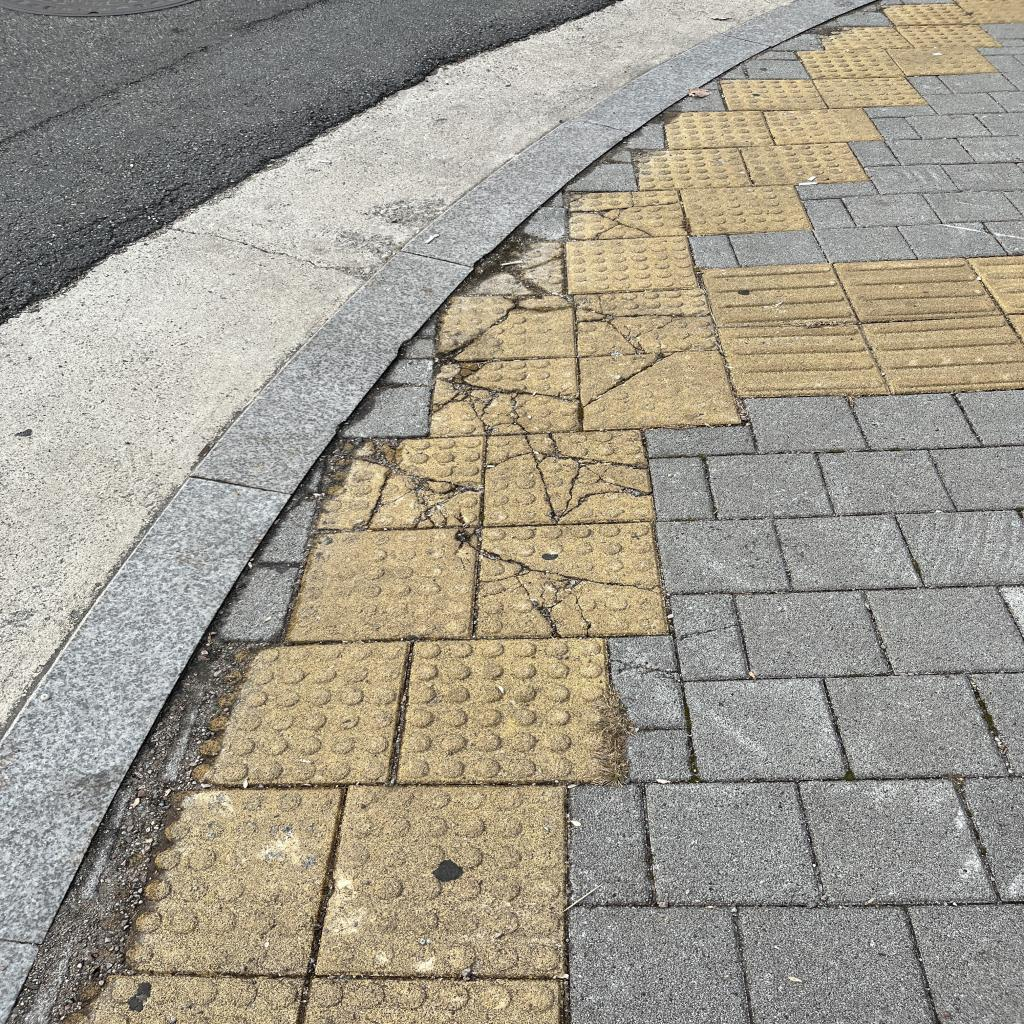Stop block broken: (314, 437, 486, 529), (429, 358, 580, 435), (575, 288, 719, 356)
Stop block normal: (398, 638, 618, 782), (566, 235, 698, 294), (681, 184, 812, 235)
Straight block normal: (718, 324, 887, 396)
